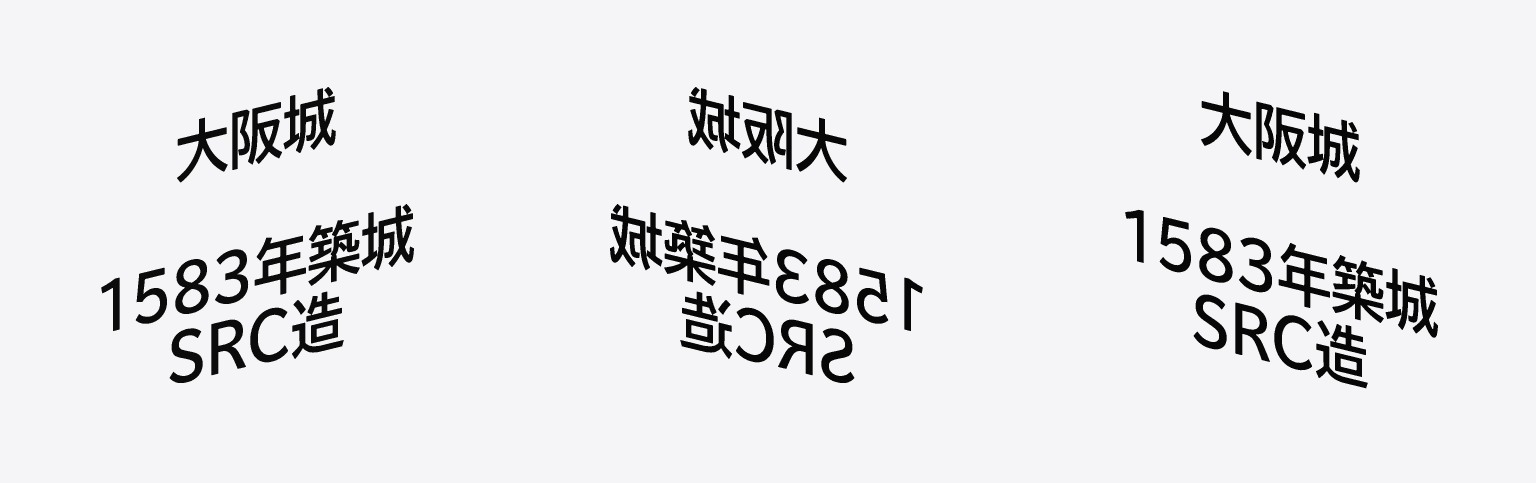
File: TourPanel.glb
3 views of the same model, side by side, from view 1: azimuth 30°, elevation 25°; view 2: azimuth 150°, elevation 25°; view 3: azimuth 330°, elevation 25° (orthographic).
Parts seen in each view (by area): view 1: Plane; view 2: Plane; view 3: Plane.
Boxes of the visible parts, x1,y1,x2,y2 form: Plane: [101, 87, 413, 382]; Plane: [610, 87, 922, 382]; Plane: [1125, 91, 1437, 388].
Size of the model in its own units: 15 by 10 by 9.27e-07.
Materials: 1 (1 with a texture image).
